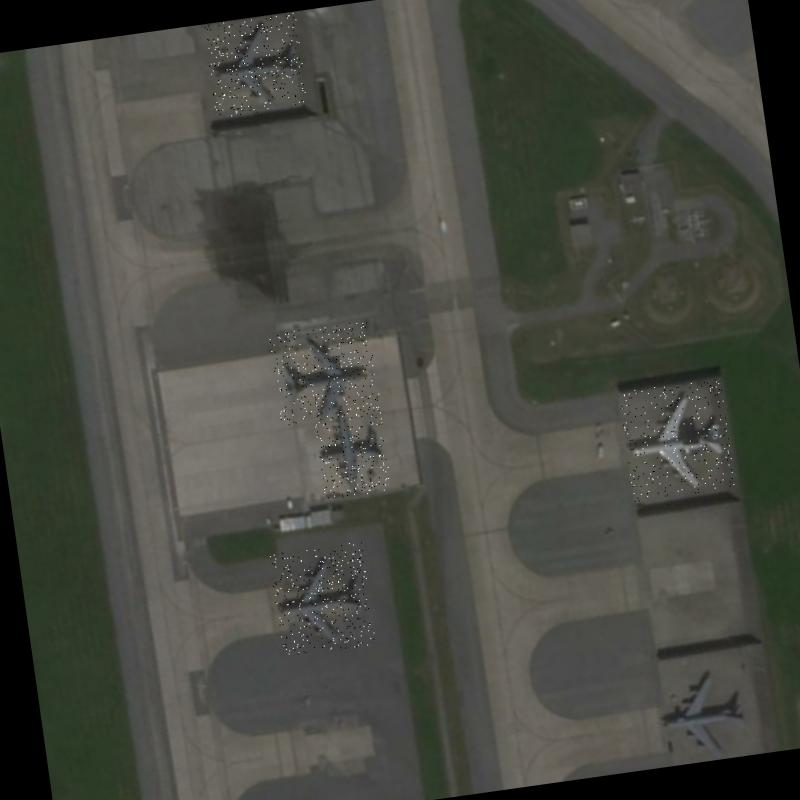A14: (268, 541, 376, 657), (648, 655, 760, 766), (268, 320, 382, 426), (203, 12, 308, 118)
A2: (312, 399, 392, 499)
A7: (618, 377, 735, 501)
